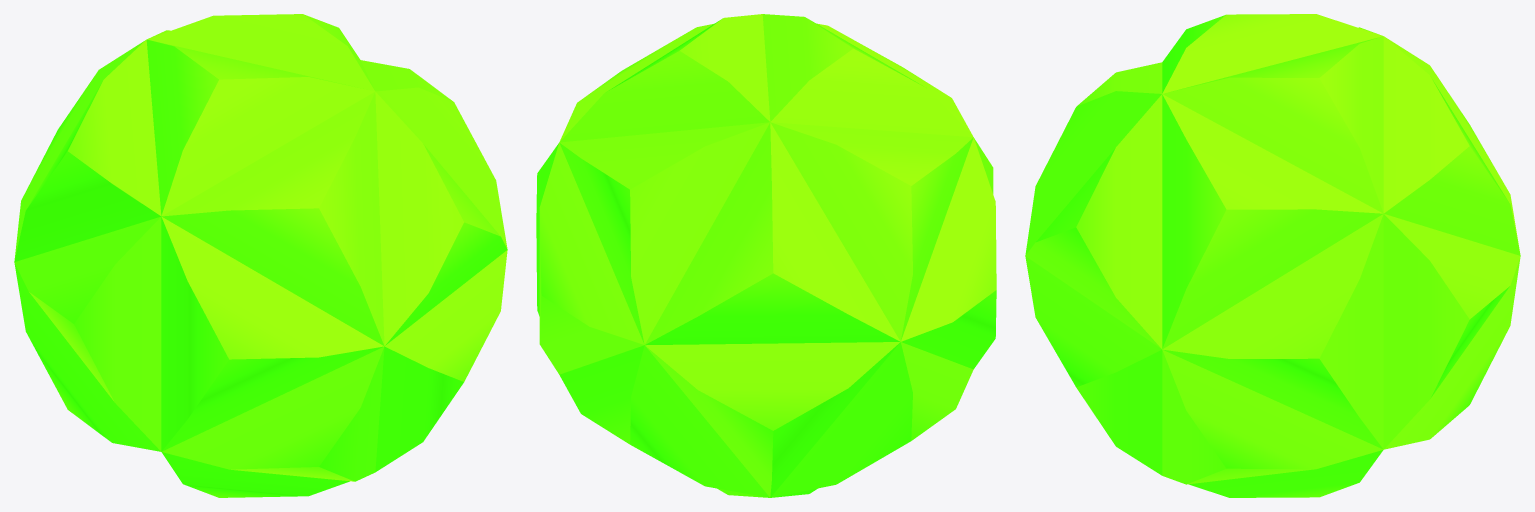
The model's file is Scorepip.fbx.
The picture shows the model from 3 angles, left to right: view 1: azimuth 30°, elevation 25°; view 2: azimuth 150°, elevation 25°; view 3: azimuth 270°, elevation 25°; orthographic projection.
Visible parts, largest first — view 1: pPlatonic1; view 2: pPlatonic1; view 3: pPlatonic1.
Boxes of the visible parts, x1=… form: pPlatonic1: x1=14, y1=14, x2=507, y2=497; pPlatonic1: x1=536, y1=14, x2=996, y2=497; pPlatonic1: x1=1025, y1=14, x2=1520, y2=497.
Bounding box in the file's own units: 0.7384 × 0.7023 × 0.75.
